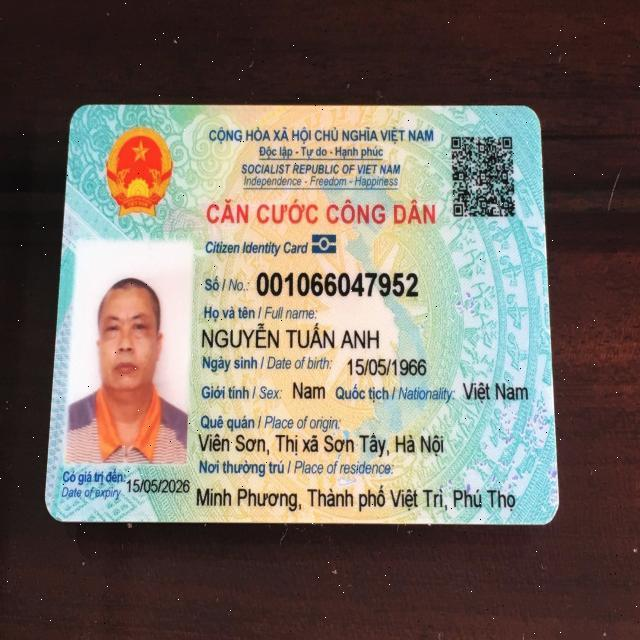current_place: (194, 481, 518, 514)
dob: (344, 355, 430, 374)
expire_date: (127, 475, 190, 497)
gender: (291, 373, 325, 403)
id: (252, 269, 419, 298)
name: (197, 321, 392, 355)
nationality: (458, 376, 533, 407)
origin_place: (196, 429, 447, 459)
